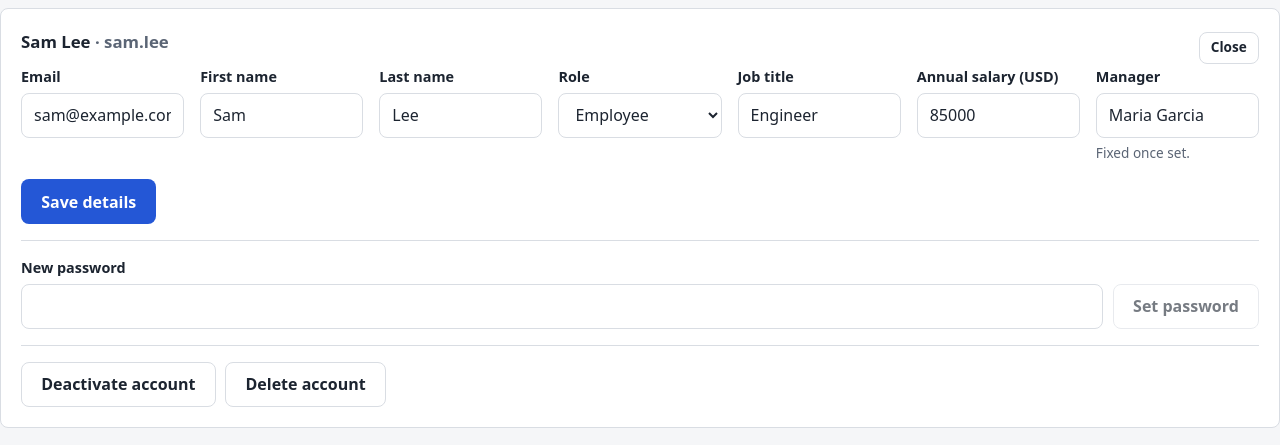
Test: AccountPanel save details › shows server field errors next to the fields and clears them on edit
Step 1. Click the button "Save details" → (89, 202), box [21,179,156,224]
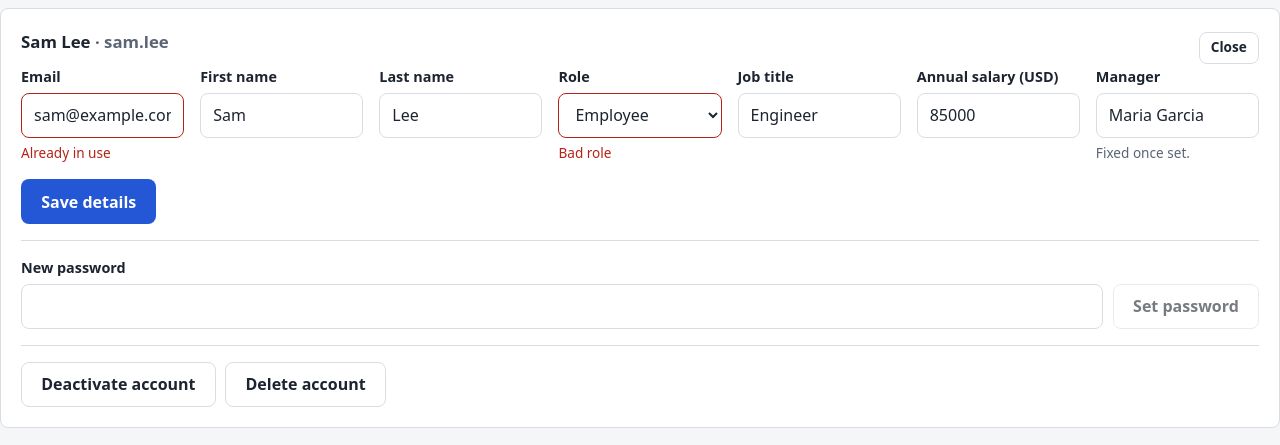
Check: the text "Bad role" is shown, box [558,143,612,162]
Step 2. Type "x" into the field labelled "Email" → (103, 115), box [21,93,184,138]
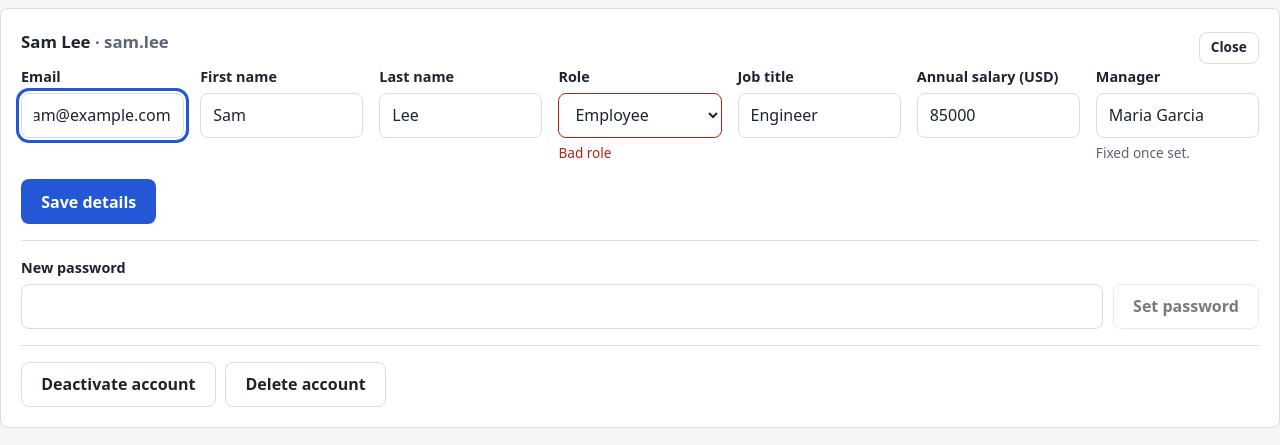
Check: the text "Already in use" is gone
